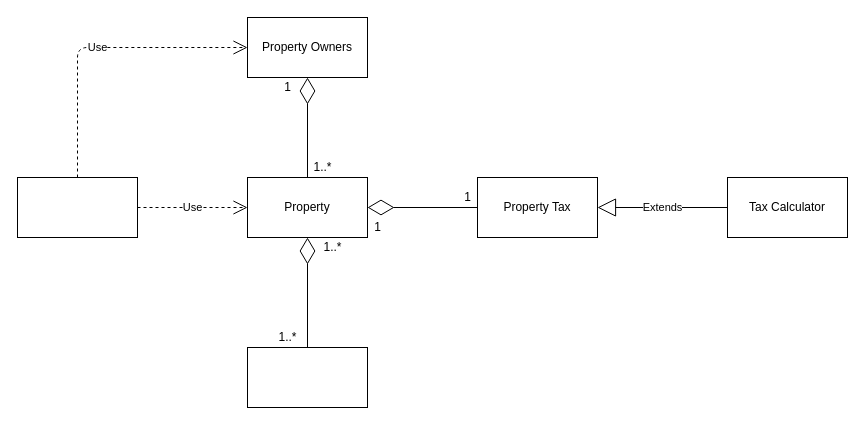
The diagram is 865 pixels wide and 425 high, and some of its shapes have lost their labels. The box of each missing label's shape, as (x1, y1, x2, y2) in pixels:
Management: (16, 176, 138, 238)
Payment: (246, 346, 368, 408)
